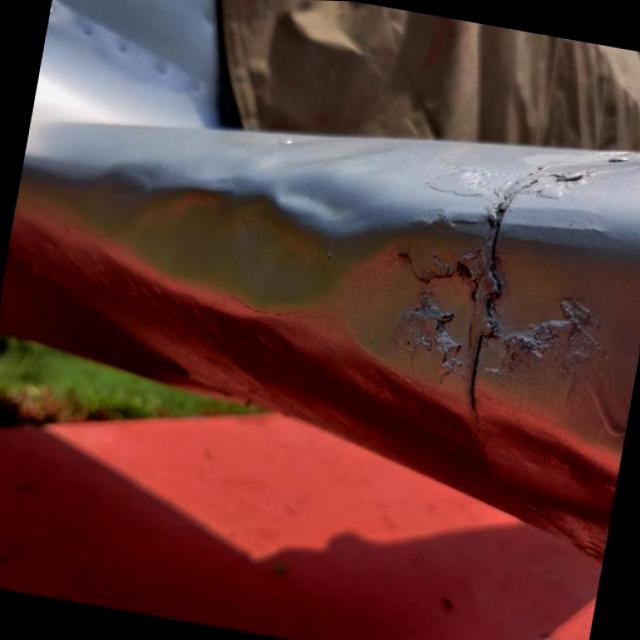dent: (92, 185, 347, 310)
